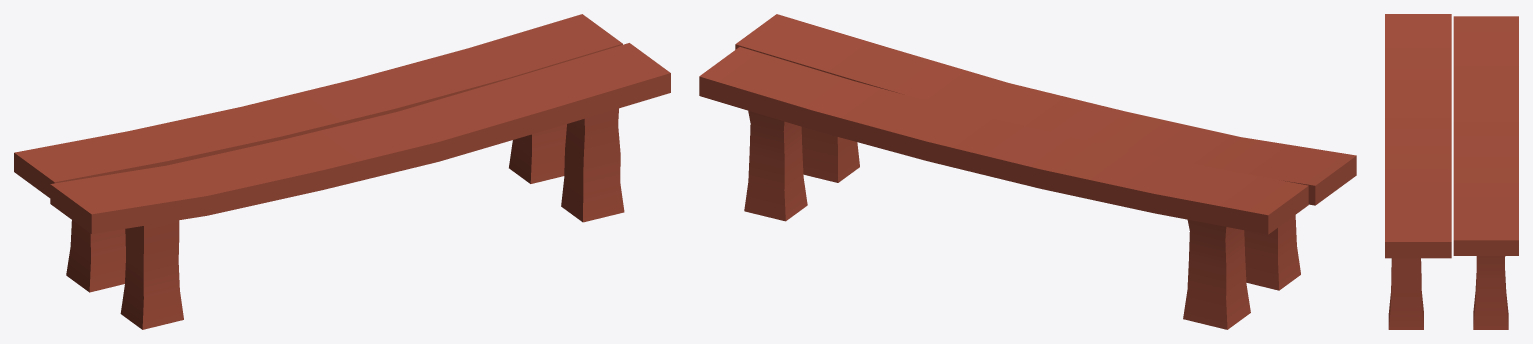
File: SM_bench_wooden.fbx
3 views of the same model, side by side, from view 1: azimuth 30°, elevation 25°; view 2: azimuth 150°, elevation 25°; view 3: azimuth 270°, elevation 25° (orthographic). The views are drawn at different scales.
Visible parts, largest first — view 1: Cylinder086; view 2: Cylinder086; view 3: Cylinder086.
Part boxes in pixels (box(x1,y1,x2,y2)): Cylinder086: box(14, 14, 670, 329); Cylinder086: box(699, 14, 1356, 329); Cylinder086: box(1385, 14, 1518, 329).
Bounding box in the file's own units: 87.89 × 18.89 × 21.8.
